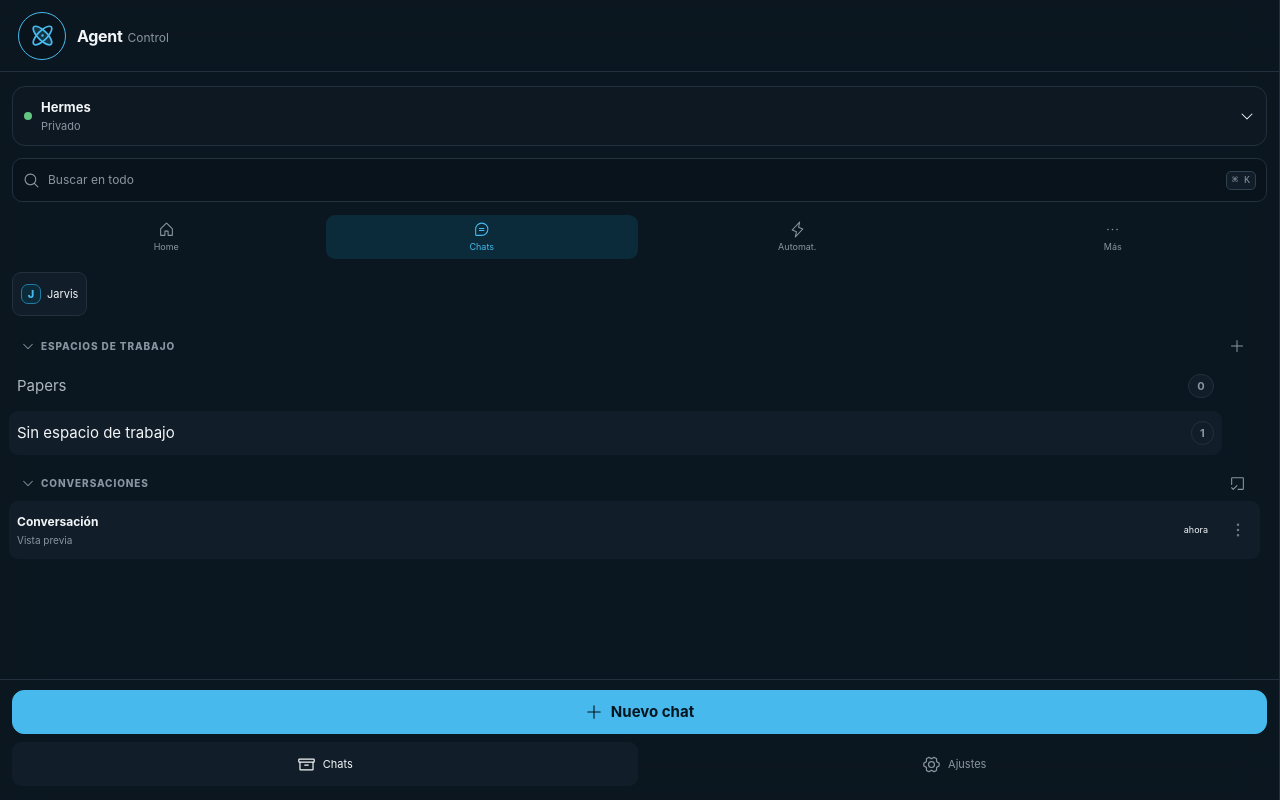
it: sidebar session menu › closes the menu with Escape and restores focus to the three-dot button
The image size is (1280, 800).
Click the button named "Opciones de “Conversación”" at [1238, 530], box [1216, 508, 1260, 552]
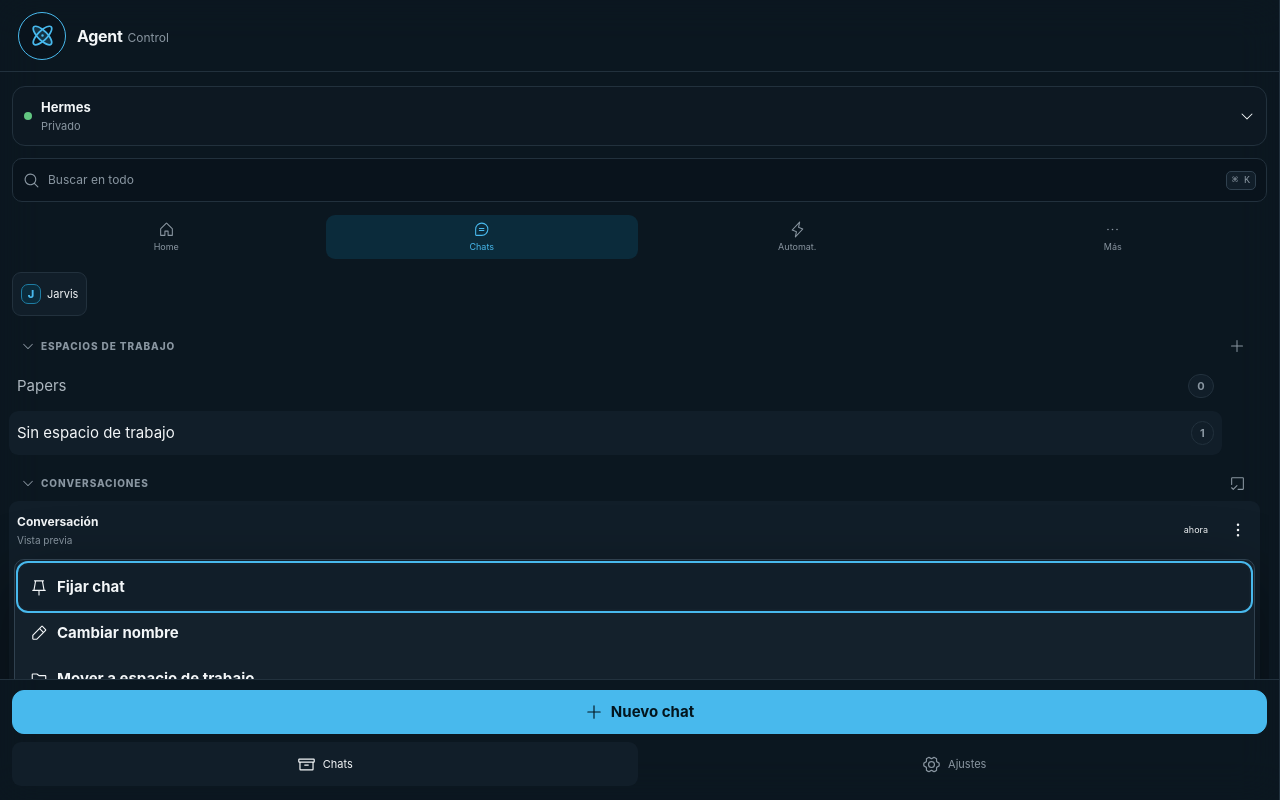
Press Escape
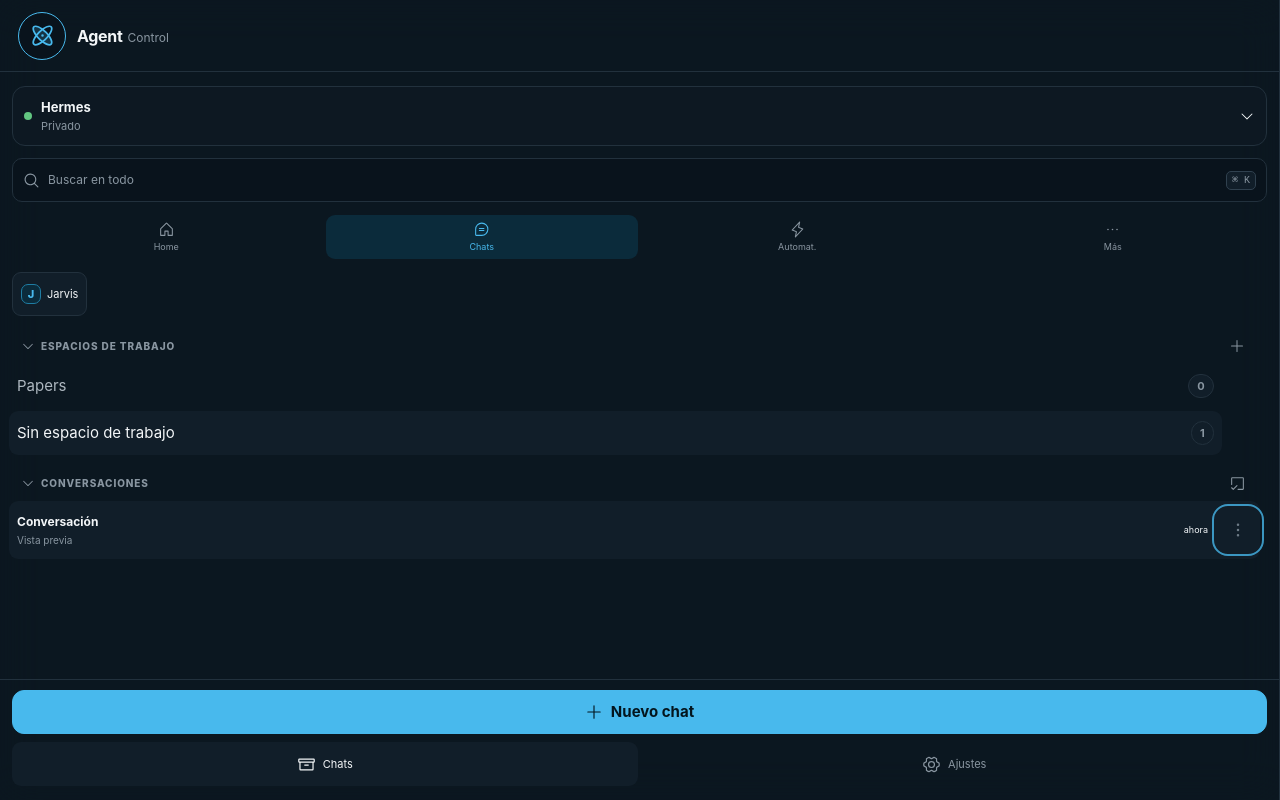
Expected: the menu is gone
